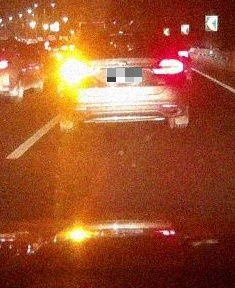L_light: (62, 60, 93, 81)
R_light: (153, 58, 185, 75)
T_light: (108, 35, 134, 40)
night-left: (59, 31, 190, 130)
plate_1: (107, 68, 142, 82)
